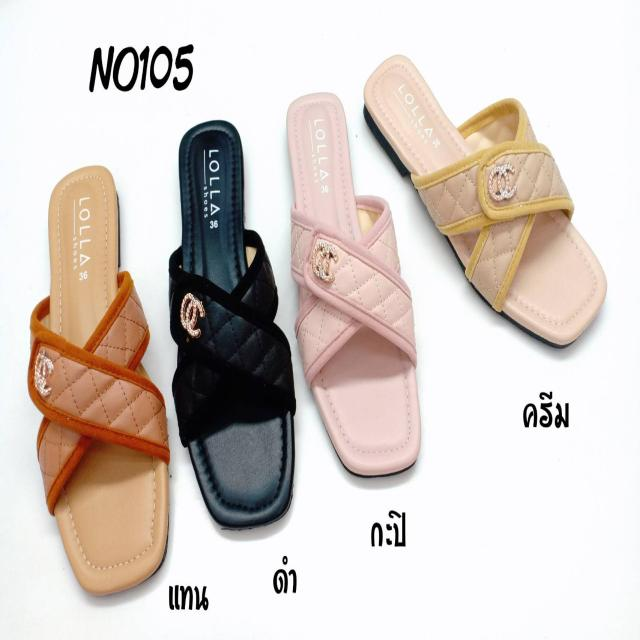black: (174, 120, 288, 536)
cream: (368, 59, 603, 350)
kapi: (288, 100, 421, 473)
tan: (43, 172, 169, 598)
